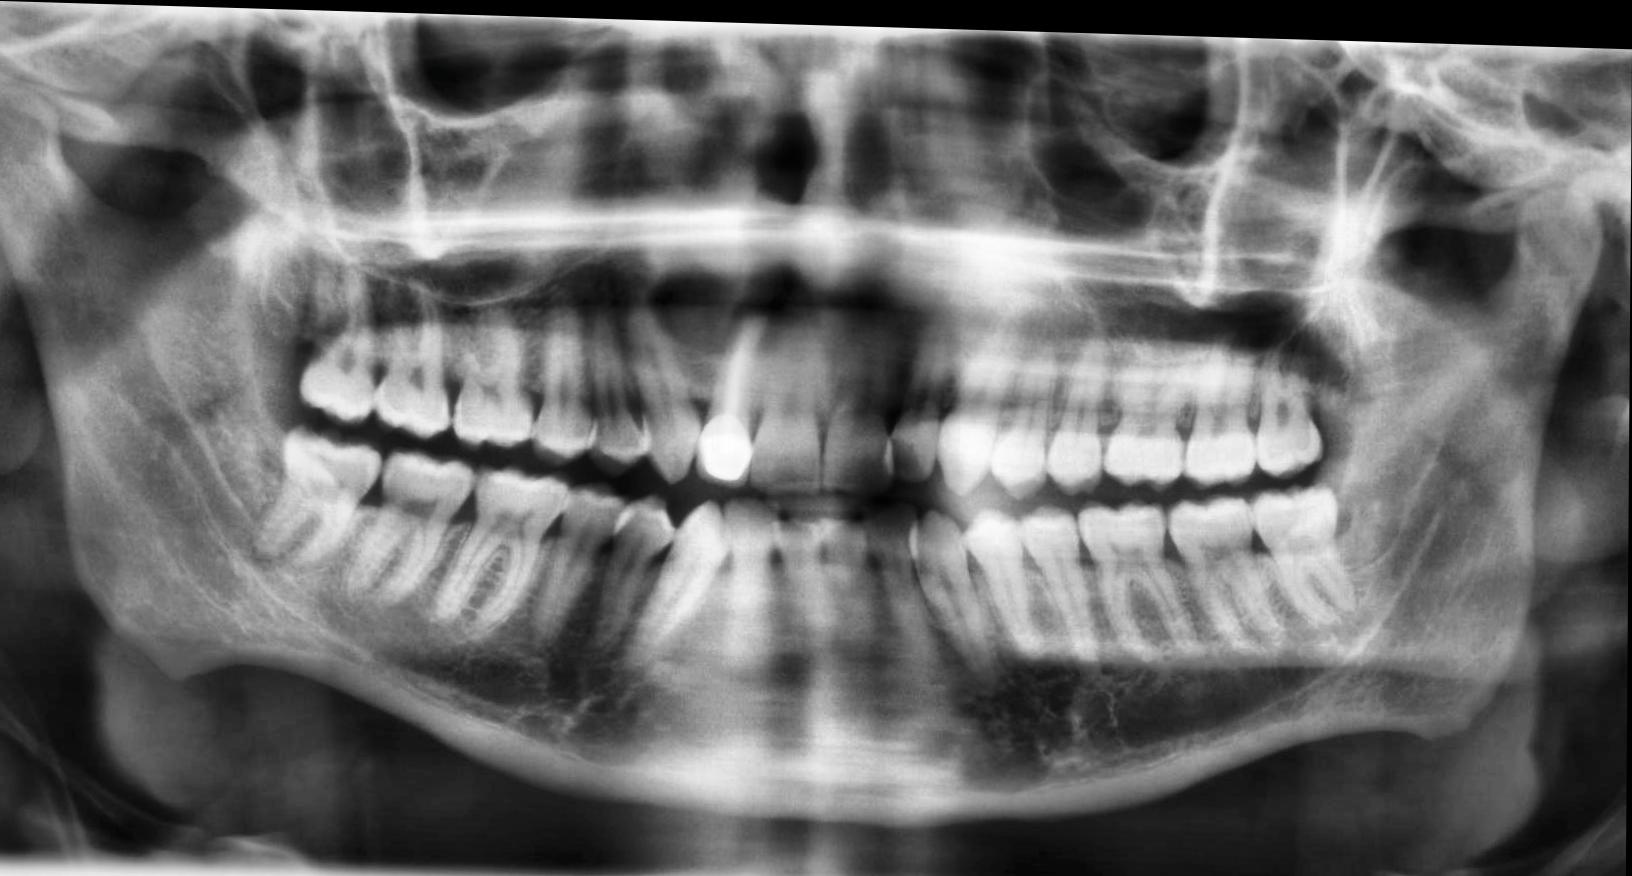radikuler: (645, 248, 825, 352)
